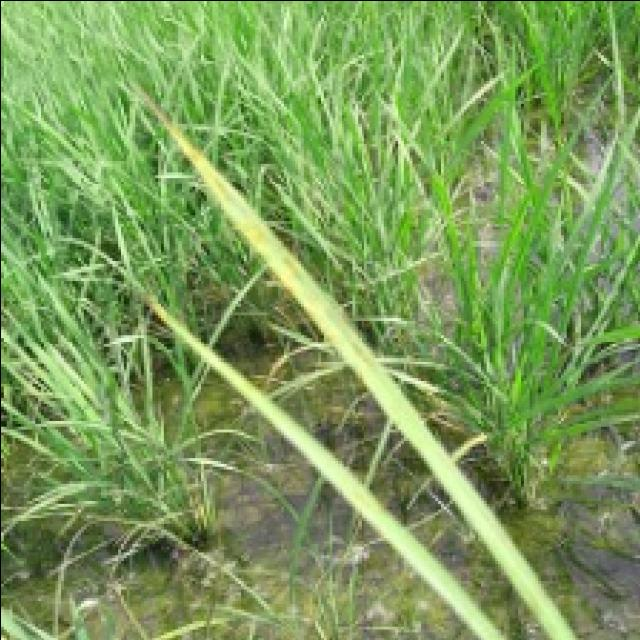Unhealthy: (133, 84, 232, 208), (302, 294, 340, 340), (342, 332, 374, 385), (278, 255, 302, 298), (244, 226, 269, 257)
